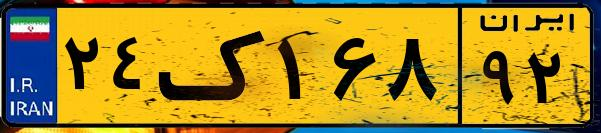1: (270, 28, 330, 110)
2: (57, 26, 110, 100), (525, 38, 570, 115)
4: (110, 28, 158, 98)
6: (330, 28, 385, 110)
8: (385, 28, 445, 110)
9: (475, 38, 525, 113)
ک: (158, 12, 270, 120)
